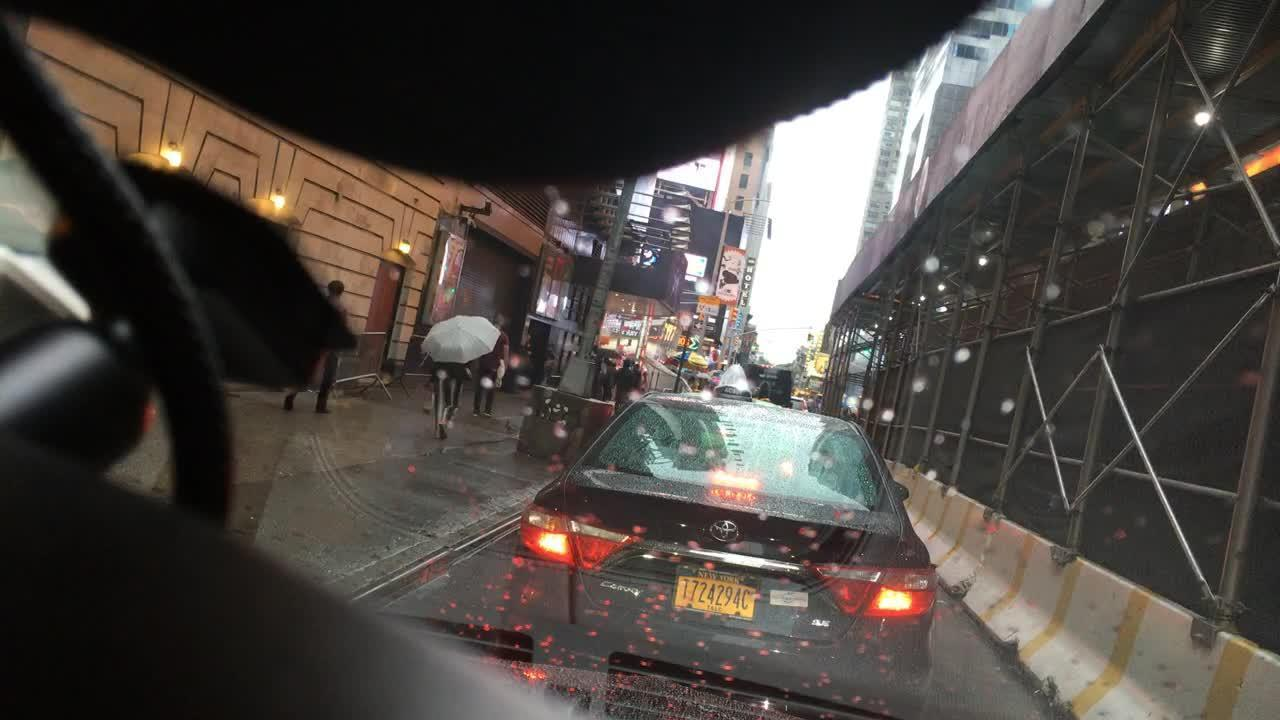Toyota: (707, 516, 747, 551)
